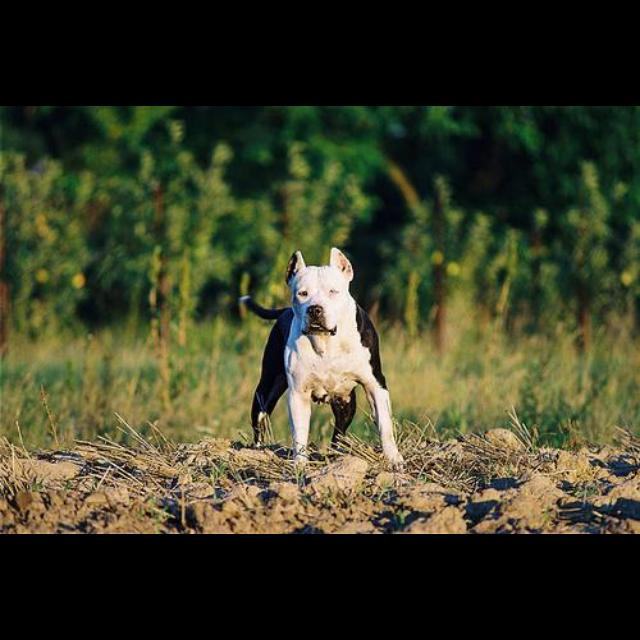amstaff: (241, 247, 407, 471)
